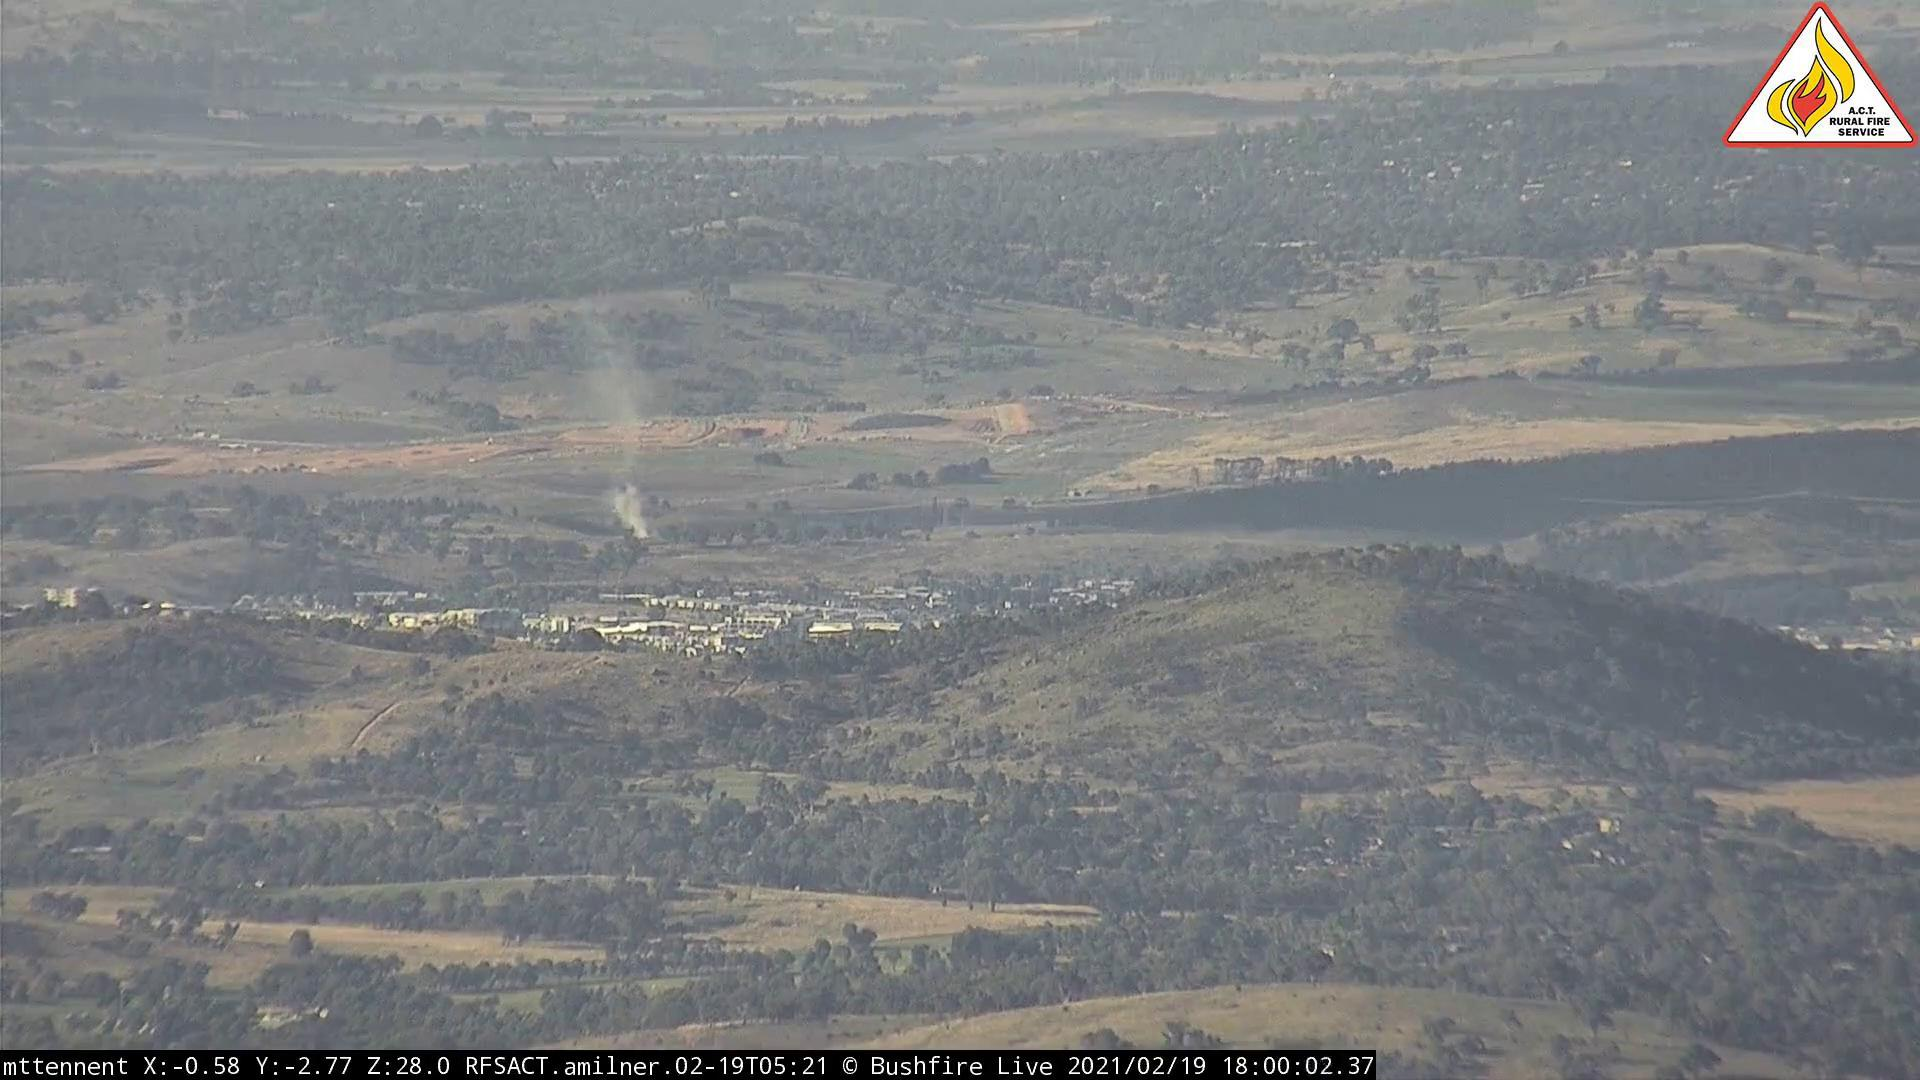Smoke: (568, 444, 684, 553)
